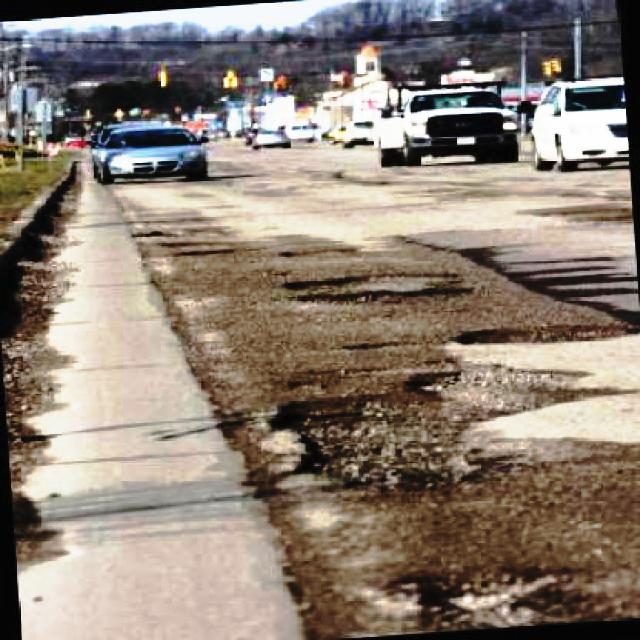pothole: (268, 384, 603, 504), (391, 364, 631, 428), (380, 564, 595, 634), (283, 268, 479, 312), (455, 318, 640, 344), (130, 226, 244, 259)
